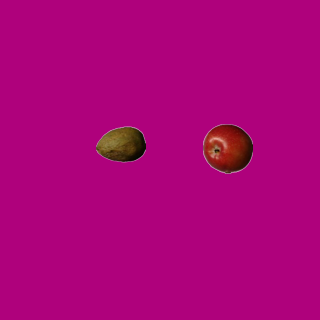Apple Braeburn: (202, 123, 252, 173)
Papaya: (95, 119, 145, 169)
